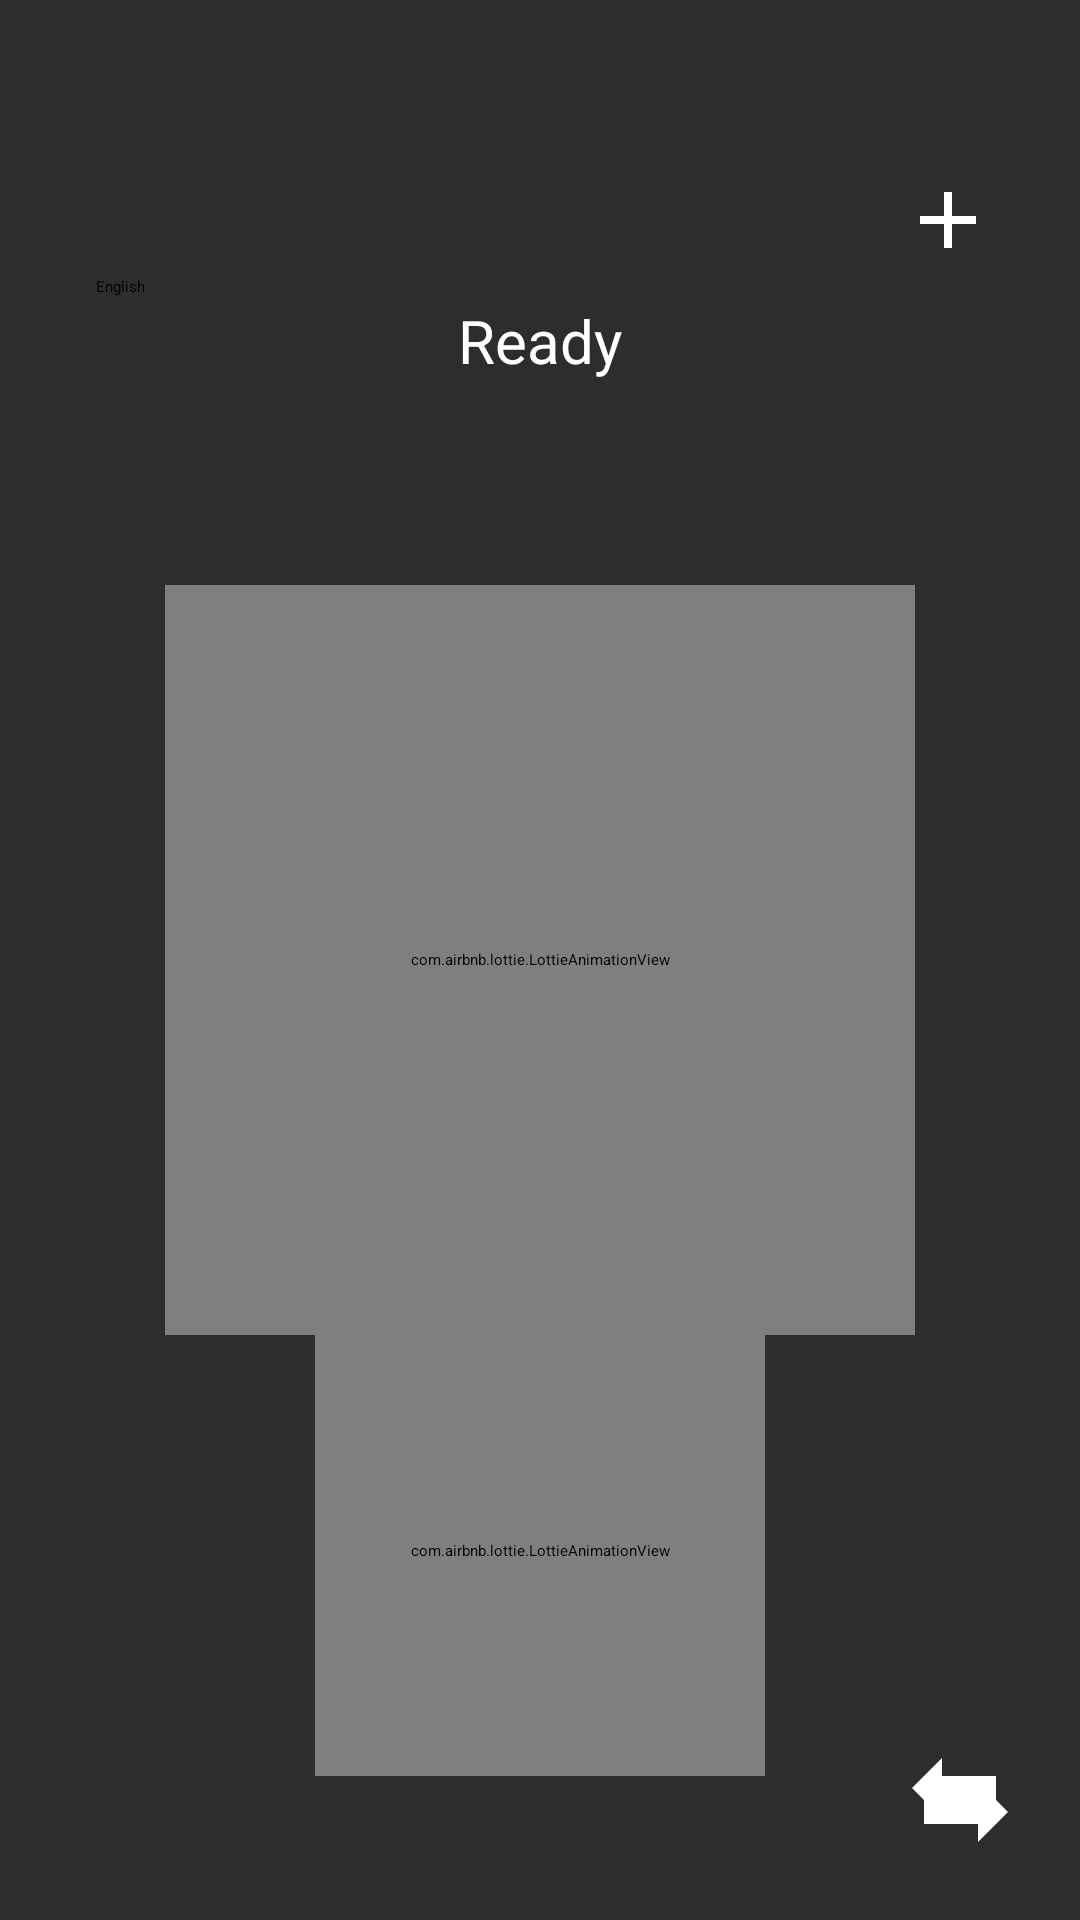

Named icons in this screenshot (1080×1920) and their bounding boxes, region(x1, y1, x2, y2):
New Chat: region(920, 192, 976, 248)
